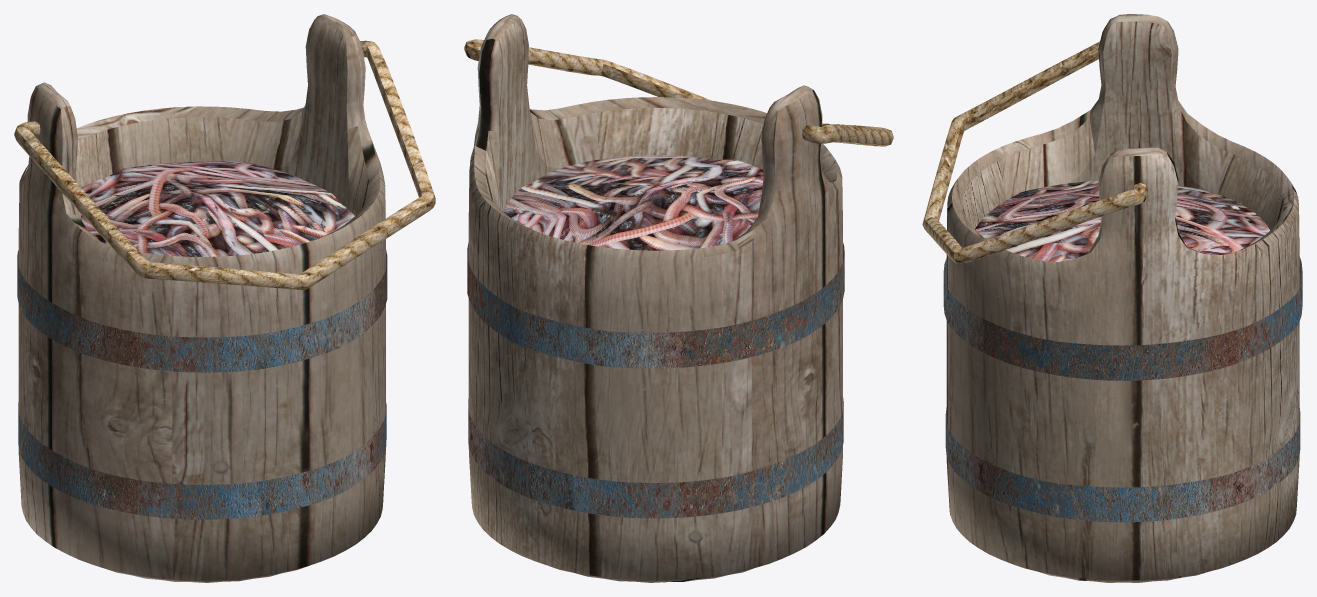
The model's file is Vedro.fbx.
The picture shows the model from 3 angles, left to right: view 1: azimuth 30°, elevation 25°; view 2: azimuth 150°, elevation 25°; view 3: azimuth 270°, elevation 25°; orthographic projection. The views are drawn at different scales.
Visible parts, largest first — view 1: Cylinder, Cylinder.001, Plane, Cube; view 2: Cylinder, Cylinder.001, Plane, Cube; view 3: Cylinder, Cylinder.001, Plane, Cube.
Part boxes in pixels (x1,y1,x2,y2): Cylinder: (18, 14, 385, 582); Cylinder.001: (17, 250, 387, 519); Plane: (80, 161, 380, 256); Cube: (14, 40, 435, 289); Cylinder: (468, 14, 842, 582); Cylinder.001: (467, 242, 844, 518); Plane: (502, 155, 763, 250); Cube: (464, 39, 893, 146); Cylinder: (946, 14, 1299, 582); Cylinder.001: (943, 257, 1302, 522); Plane: (975, 181, 1269, 296); Cube: (922, 41, 1147, 263).
Size of the model in its own units: 2.37 by 2.24 by 2.85.
